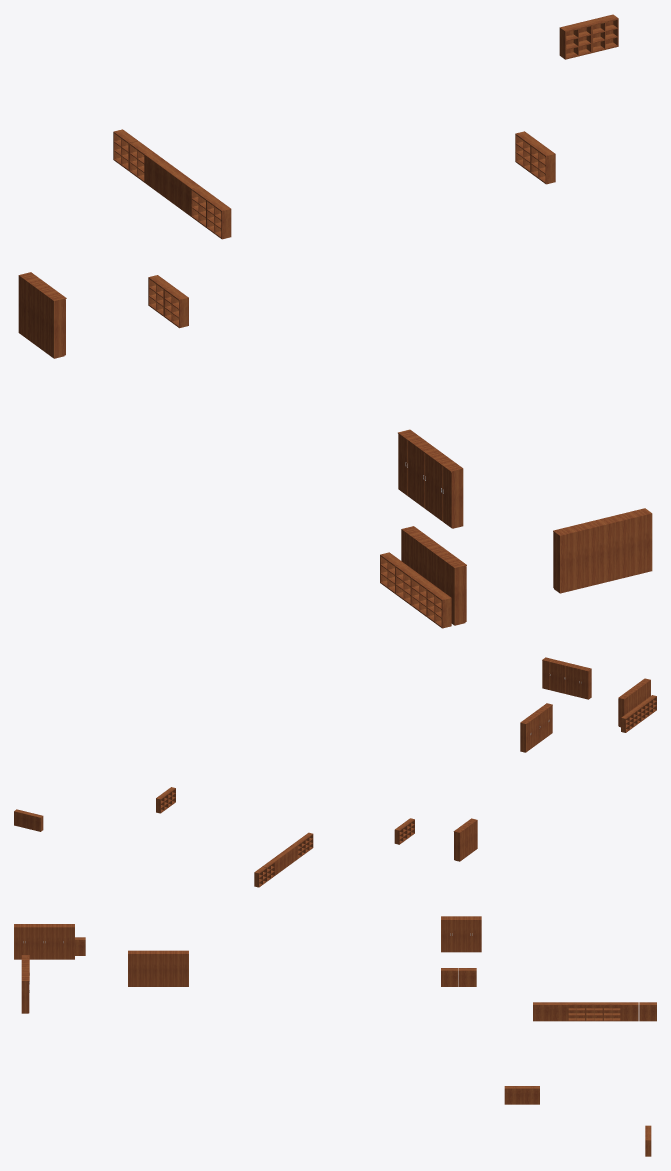
Rendered from cabinet 1.glb.
3 views of the same model, one above another, from view 1: azimuth 30°, elevation 25°; view 2: azimuth 150°, elevation 25°; view 3: azimuth 270°, elevation 25° (orthographic). The views are drawn at different scales.
Visible parts, largest first — view 1: 木纹-柜子-浅.015, 木纹-柜子-浅.013, 木纹-柜子-浅.014, 木纹-柜子-浅.009, 木纹-柜子-浅.031, 木纹-柜子-浅.028, 木纹-柜子-浅.032, 木纹-柜子-浅.008, 木纹-柜子-浅.010, 木纹-柜子-深.016, 木纹-柜子-深.017, 木纹-柜子-深.015 (+3 smaller); view 2: 木纹-柜子-浅.015, 木纹-柜子-浅.013, 木纹-柜子-浅.014, 木纹-柜子-浅.032, 木纹-柜子-浅.010, 木纹-柜子-浅.030, 木纹-柜子-浅.031; view 3: 木纹-柜子-浅.032, 木纹-柜子-浅.008, 木纹-柜子-浅.031, 木纹-柜子-浅.010, 木纹-柜子-浅.009, 木纹-柜子-浅.030, 木纹-柜子-浅.029, 木纹-柜子-浅.028, 木纹-柜子-深.005, 木纹-柜子-浅.013, 木纹-柜子-深.015.
Part boxes in pixels (x1,y1,x2,y2): 木纹-柜子-浅.015: (553,523,590,593); 木纹-柜子-浅.013: (615,508,652,578); 木纹-柜子-浅.014: (584,515,621,585); 木纹-柜子-浅.009: (433,455,463,528); 木纹-柜子-浅.031: (36,285,66,358); 木纹-柜子-浅.028: (437,552,466,625); 木纹-柜子-浅.032: (18,272,48,345); 木纹-柜子-浅.008: (415,442,445,514); 木纹-柜子-浅.010: (398,429,427,501); 木纹-柜子-深.016: (559,21,591,59); 木纹-柜子-深.017: (587,14,618,52); 木纹-柜子-深.015: (530,142,555,184); 木纹-柜子-浅.015: (572,665,591,699); 木纹-柜子-浅.013: (542,657,560,691); 木纹-柜子-浅.014: (557,661,575,695); 木纹-柜子-浅.032: (453,825,468,861); 木纹-柜子-浅.010: (520,716,534,752); 木纹-柜子-浅.030: (618,691,633,727); 木纹-柜子-浅.031: (463,818,477,854); 木纹-柜子-浅.032: (461,916,481,952); 木纹-柜子-浅.008: (148,950,168,986); 木纹-柜子-浅.031: (441,916,461,952); 木纹-柜子-浅.010: (168,950,188,986); 木纹-柜子-浅.009: (128,950,148,986); 木纹-柜子-浅.030: (54,924,74,959); 木纹-柜子-浅.029: (34,924,54,959); 木纹-柜子-浅.028: (14,924,34,959); 木纹-柜子-深.005: (585,1002,603,1021); 木纹-柜子-浅.013: (21,972,29,1013); 木纹-柜子-深.015: (504,1086,522,1104).
Bounding box in the file's own units: 12.61 × 0.9361 × 16.54.
2 materials, 2 textured.
